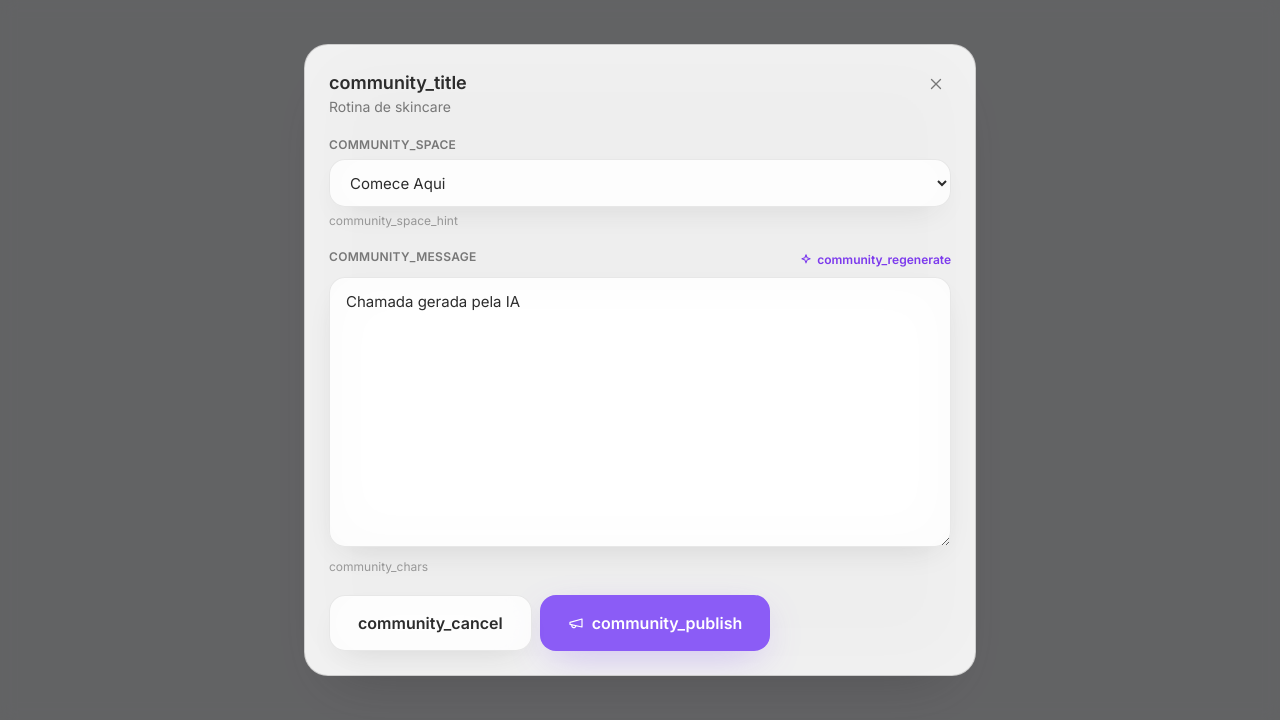
CommunityModal › erro da publicação aparece na tela e não fecha o modal
Expected: the text box labelled "community_message" is not empty, top-left (329, 277), bottom-right (951, 547)
Click the button "community_publish".
click(655, 623)  # box top-left (540, 595), bottom-right (770, 651)
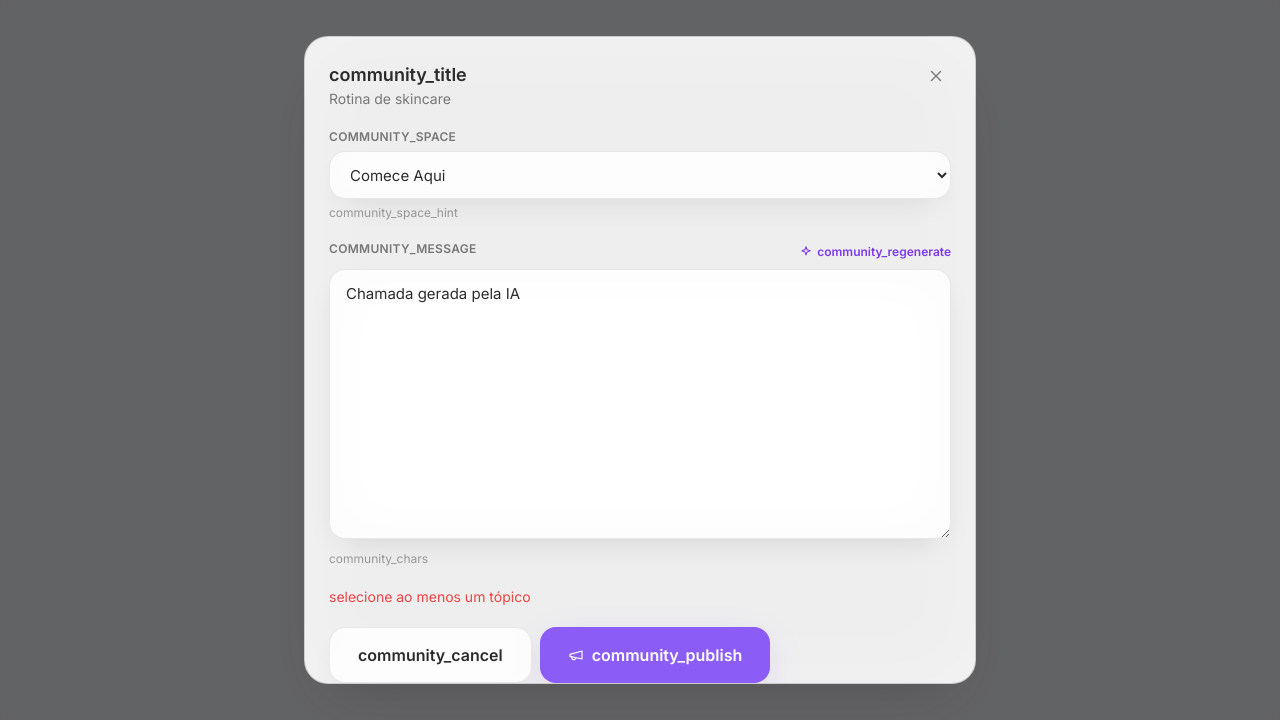
Now the text "selecione ao menos um tópico" is shown, box top-left (329, 588), bottom-right (530, 605)
